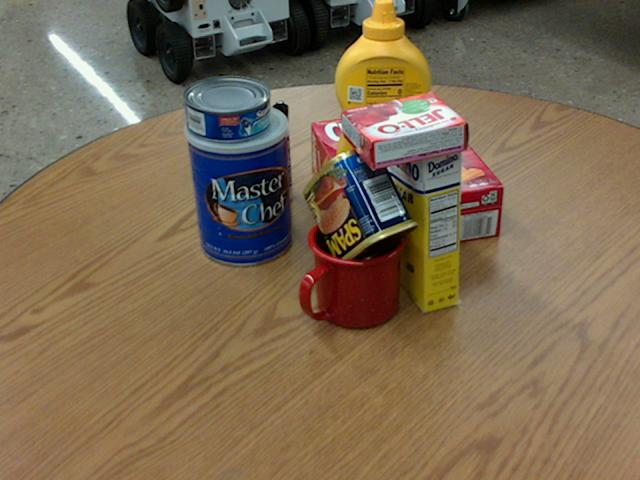cracker_box: (309, 105, 501, 257)
gelatin_box: (342, 91, 467, 168)
large_marker: (271, 102, 292, 202)
master_chef_can: (184, 100, 294, 264)
mug: (296, 212, 405, 330)
mustard_bottle: (335, 0, 430, 190)
potted_meat_can: (302, 145, 418, 271)
sugar_box: (382, 105, 460, 314)
tomato_soup_can: (353, 40, 414, 146)
tuna_fish_can: (182, 75, 269, 140)
